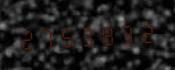eight: (97, 19, 116, 48)
five: (57, 21, 76, 50)
seven: (37, 22, 56, 51)
three: (77, 20, 96, 49), (117, 18, 136, 47)
two: (17, 23, 36, 52), (137, 17, 156, 46)
